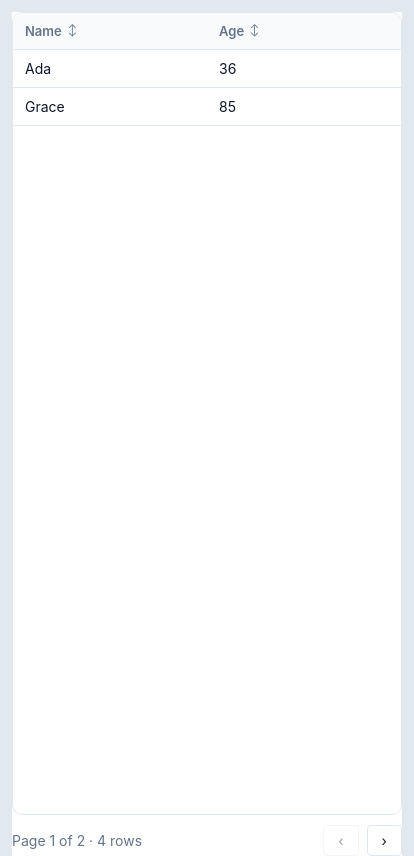
Scenario: <DataTable /> (react-native) — client mode › paginates with the footer next/previous controls
Check: the text "Page 1 of 2 · 4 rows" is shown, box [12,832,142,849]
Check: the text "Alan" is not shown
Click the button named "Next page": [384, 840] box [367,825,402,855]
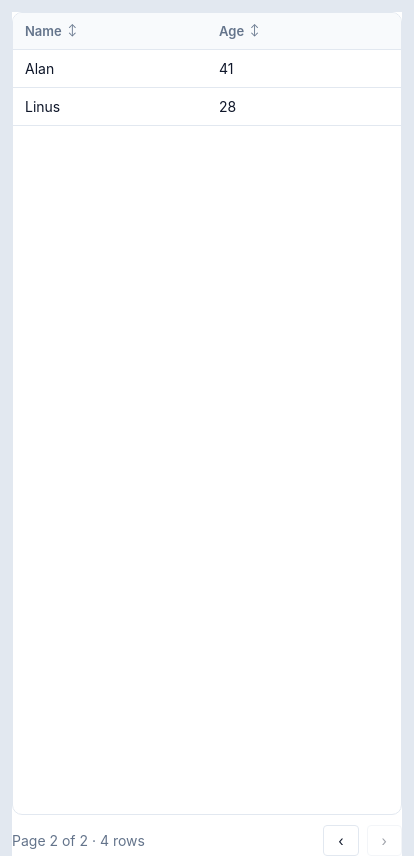
Check: the text "Page 2 of 2 · 4 rows" is shown, box [12,832,145,849]
Check: the text "Alan" is shown, box [25,60,54,77]
Check: the text "Ada" is gone
